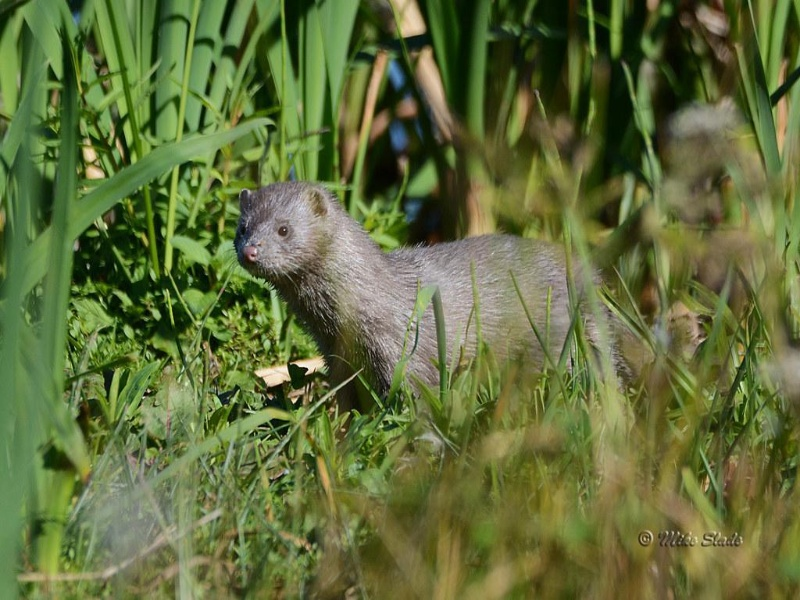minkish: (234, 178, 650, 420)
